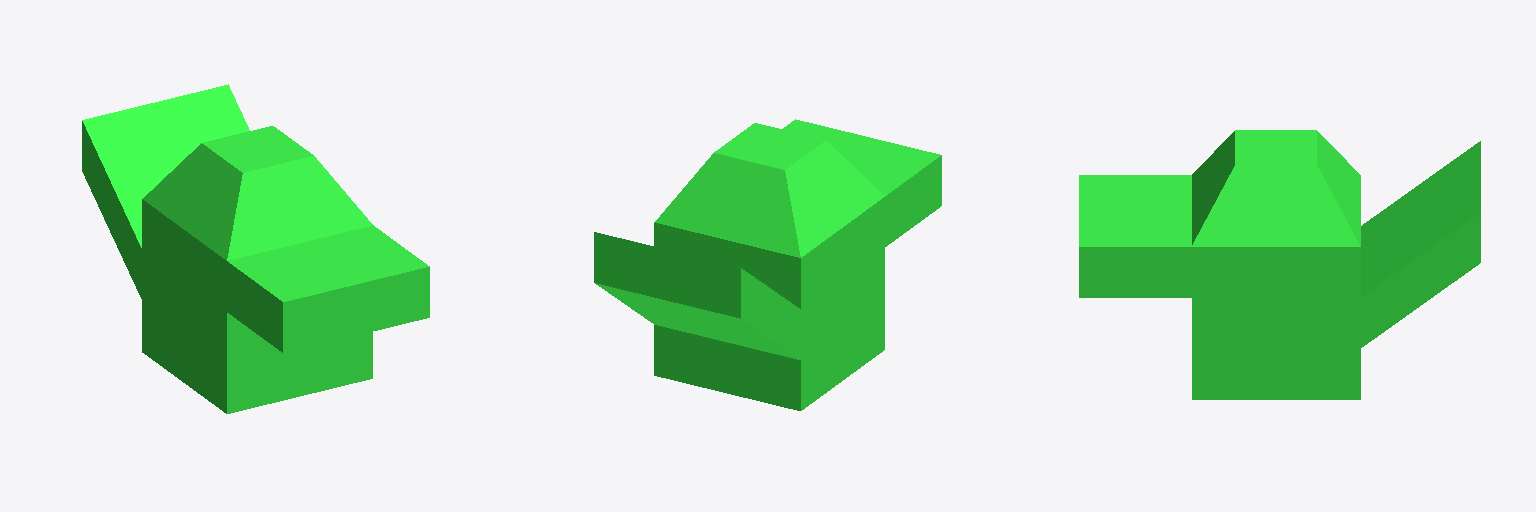
File: oggetto.obj
The picture shows the model from 3 angles: view 1: azimuth 30°, elevation 25°; view 2: azimuth 150°, elevation 25°; view 3: azimuth 270°, elevation 25°; orthographic projection.
Bounding box in the file's own units: 1 × 1.41 × 2.38.